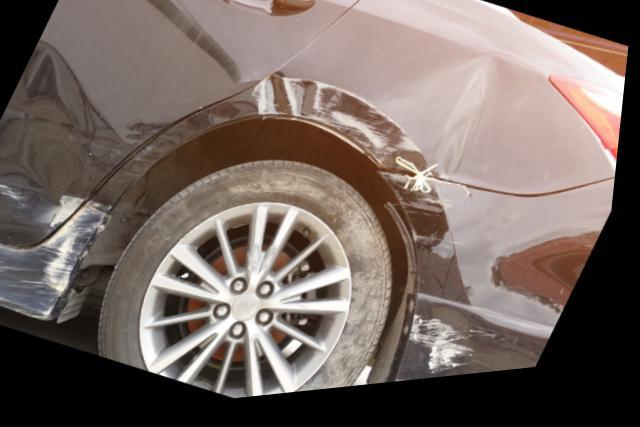dent: (0, 52, 94, 219), (439, 63, 512, 186)
scratch: (253, 80, 426, 176), (0, 199, 120, 323), (419, 323, 503, 386), (53, 195, 90, 235)
